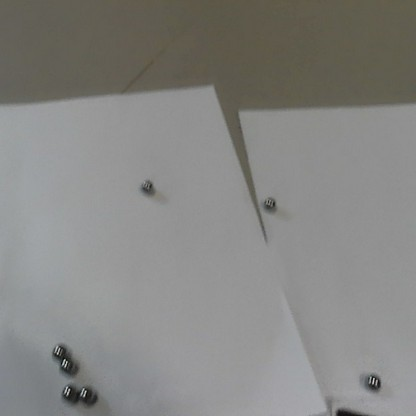ironball: (78, 381, 99, 404), (361, 370, 382, 392), (56, 382, 78, 403), (59, 355, 76, 374), (262, 193, 277, 212), (49, 340, 68, 355), (140, 176, 155, 194)
